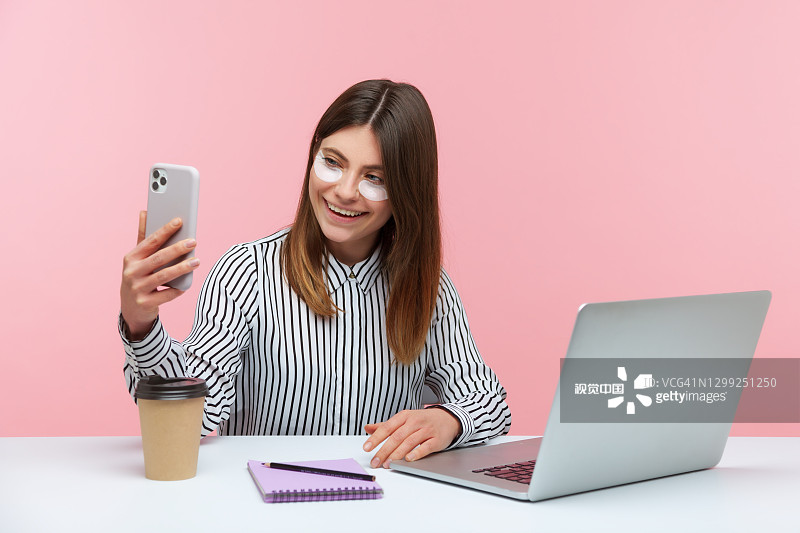no-phone: (339, 393, 473, 476)
taking photos: (107, 159, 217, 338)
